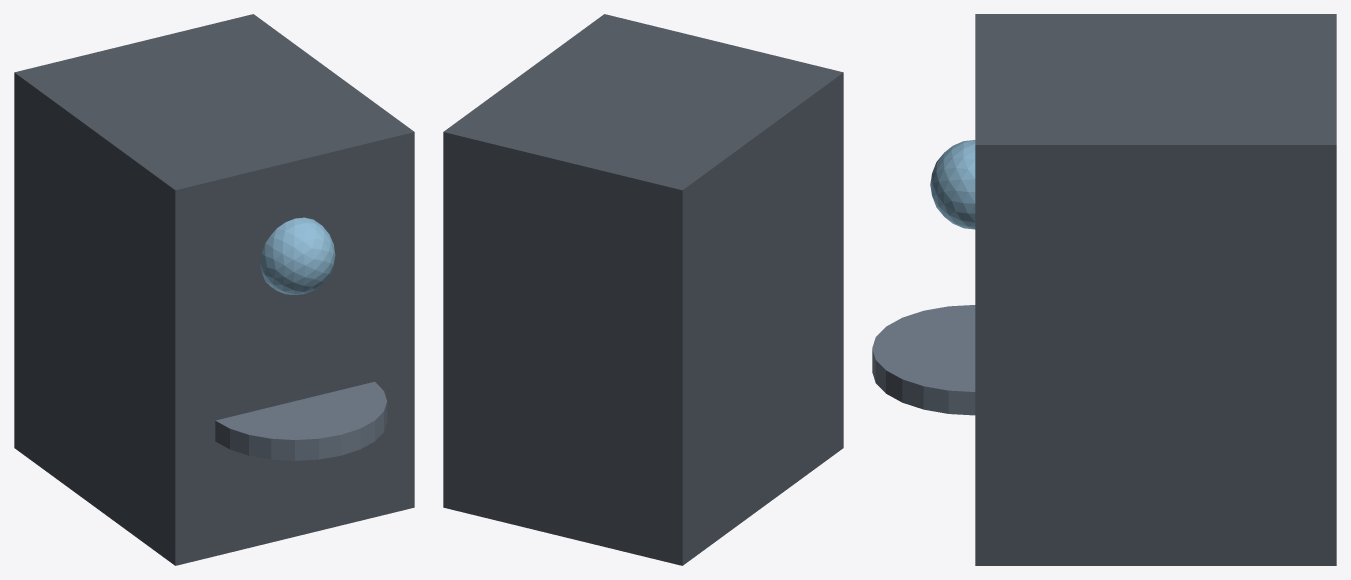
Rendered from speaker_cube.glb.
3 renders of one model, left to right at view 1: azimuth 30°, elevation 25°; view 2: azimuth 150°, elevation 25°; view 3: azimuth 270°, elevation 25°, orthographic. The views are drawn at different scales.
Parts seen in each view (by area): view 1: geometry_0; view 2: geometry_0; view 3: geometry_0.
Part boxes in pixels (x1,y1,x2,y2): geometry_0: [14, 14, 414, 565]; geometry_0: [443, 14, 843, 565]; geometry_0: [872, 14, 1336, 565].
Bounding box in the file's own units: 0.24 × 0.36 × 0.36.
